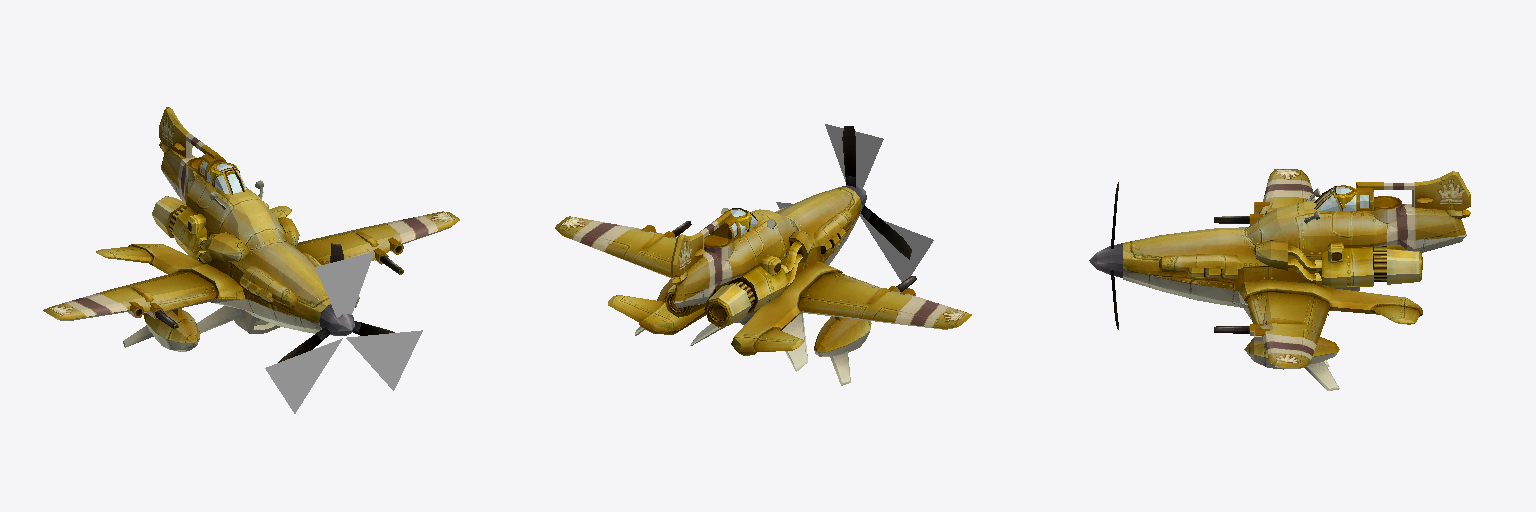
The picture shows the model from 3 angles: view 1: azimuth 30°, elevation 25°; view 2: azimuth 150°, elevation 25°; view 3: azimuth 270°, elevation 25°; orthographic projection.
Parts seen in each view (by area): view 1: VA_FRIGHTER, MAIN_ROTOR_FAST01, FRAG01, FRAG, MAIN_ROTOR_SLOW01, ROTOR01, GLASS; view 2: VA_FRIGHTER, FRAG01, FRAG, MAIN_ROTOR_FAST01, MAIN_ROTOR_SLOW01; view 3: VA_FRIGHTER, FRAG, FRAG01, ROTOR01, GLASS.
Boxes of the visible parts, x1=… form: VA_FRIGHTER: x1=96, y1=107, x2=333, y2=335; MAIN_ROTOR_FAST01: x1=265, y1=252, x2=422, y2=413; FRAG01: x1=43, y1=272, x2=217, y2=351; FRAG: x1=296, y1=211, x2=459, y2=307; MAIN_ROTOR_SLOW01: x1=278, y1=243, x2=394, y2=362; ROTOR01: x1=320, y1=304, x2=354, y2=335; GLASS: x1=202, y1=161, x2=246, y2=193; VA_FRIGHTER: x1=608, y1=187, x2=861, y2=371; FRAG01: x1=798, y1=272, x2=971, y2=385; FRAG: x1=555, y1=216, x2=691, y2=335; MAIN_ROTOR_FAST01: x1=776, y1=124, x2=933, y2=281; MAIN_ROTOR_SLOW01: x1=842, y1=126, x2=911, y2=259; VA_FRIGHTER: x1=1123, y1=171, x2=1470, y2=366; FRAG: x1=1214, y1=291, x2=1339, y2=390; FRAG01: x1=1214, y1=169, x2=1315, y2=224; ROTOR01: x1=1089, y1=243, x2=1122, y2=277; GLASS: x1=1316, y1=187, x2=1368, y2=210.
Size of the model in its own units: 13.76 by 5.52 by 11.23.
Materials: 10 (2 with a texture image).